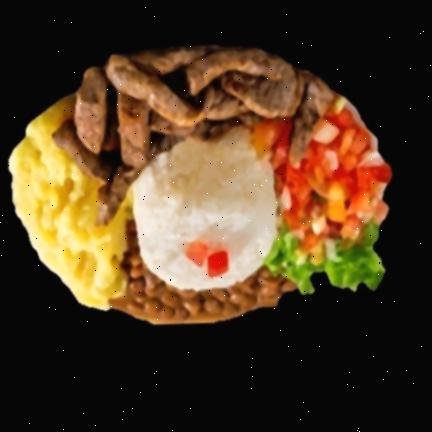beans: (108, 219, 293, 323)
meat: (52, 46, 332, 224)
potato: (8, 96, 130, 309)
rice: (132, 127, 275, 289)
salad: (264, 221, 383, 293)
tomato: (253, 105, 391, 266)
